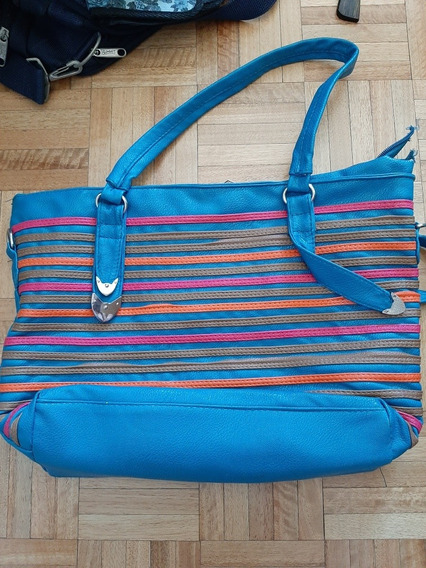cartera: (1, 35, 426, 487)
